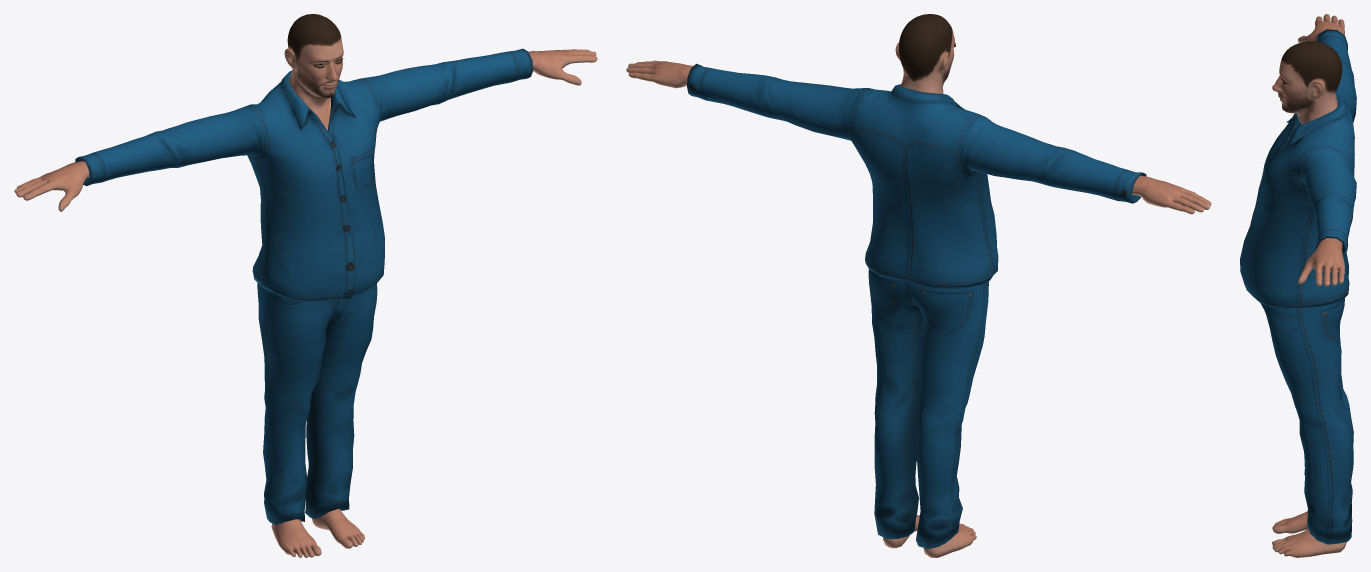
The model's file is mainCharacter.obj.
3 renders of one model, left to right at view 1: azimuth 30°, elevation 25°; view 2: azimuth 150°, elevation 25°; view 3: azimuth 270°, elevation 25°, orthographic. The views are drawn at different scales.
Visible parts, largest first — view 1: Tops, Bottoms, Body; view 2: Tops, Bottoms, Body; view 3: Tops, Bottoms, Body.
Part boxes in pixels (<box>): Tops: <box>75,48,533,301</box>; Bottoms: <box>257,283,377,524</box>; Body: <box>14,14,597,557</box>; Tops: <box>687,63,1146,288</box>; Bottoms: <box>868,269,988,548</box>; Body: <box>626,14,1211,557</box>; Tops: <box>1240,29,1356,308</box>; Bottoms: <box>1260,298,1353,544</box>; Body: <box>1272,14,1346,557</box>.
Bounding box in the file's own units: 214 × 184 × 39.12.
3 materials, 3 textured.
